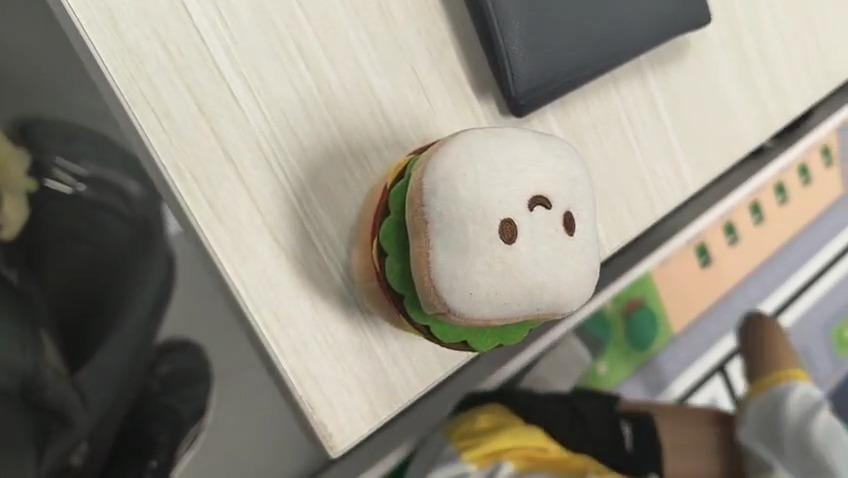objects: (359, 126, 603, 354)
